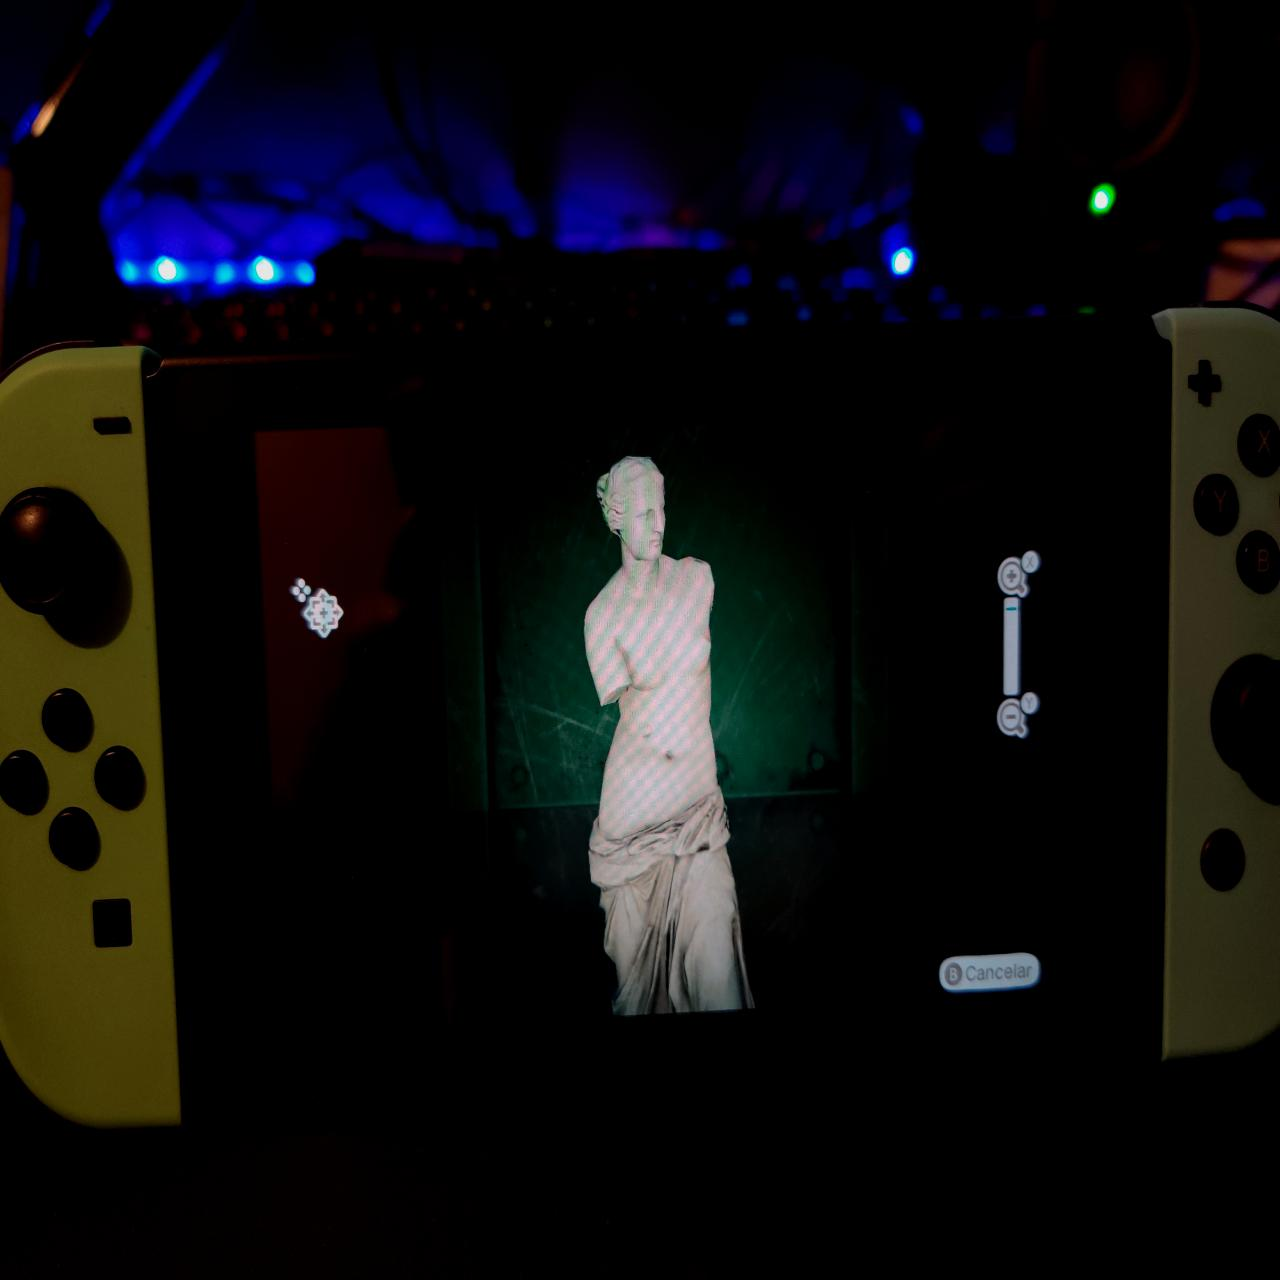Milo: (583, 449, 764, 1012)
